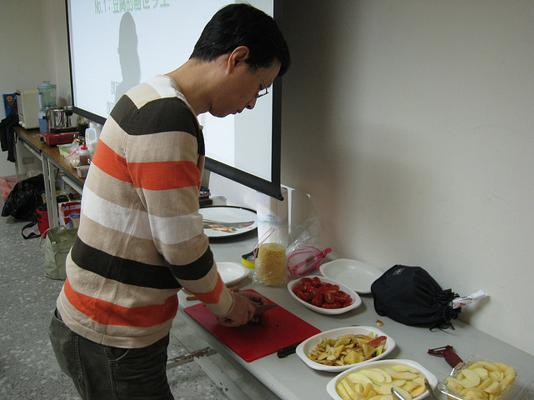person: (50, 4, 288, 400)
